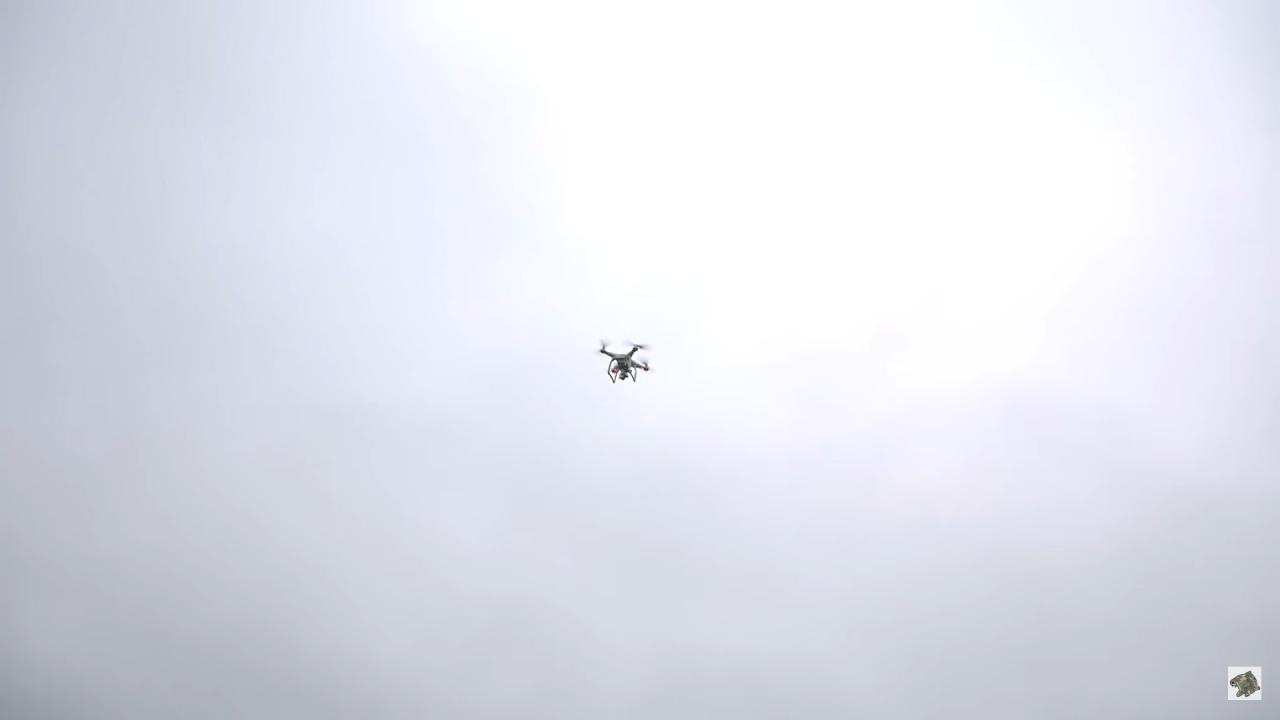Drone: (581, 328, 670, 393)
